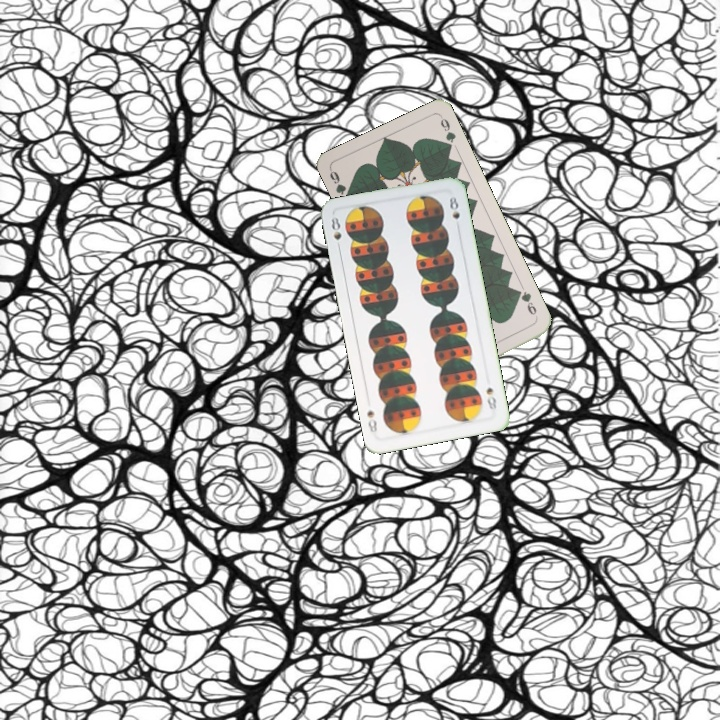G9: (325, 165, 355, 200), (513, 286, 540, 322)
S8: (327, 213, 344, 253), (482, 383, 499, 412)
